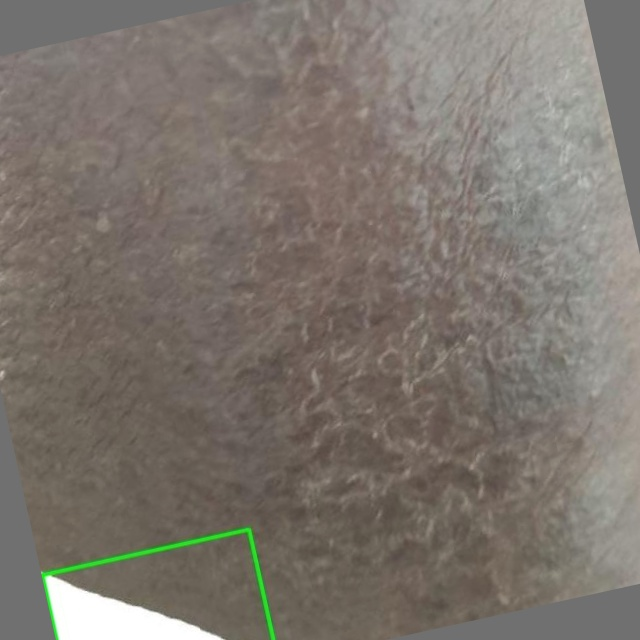Contact Dermatitis: (42, 529, 273, 639)
